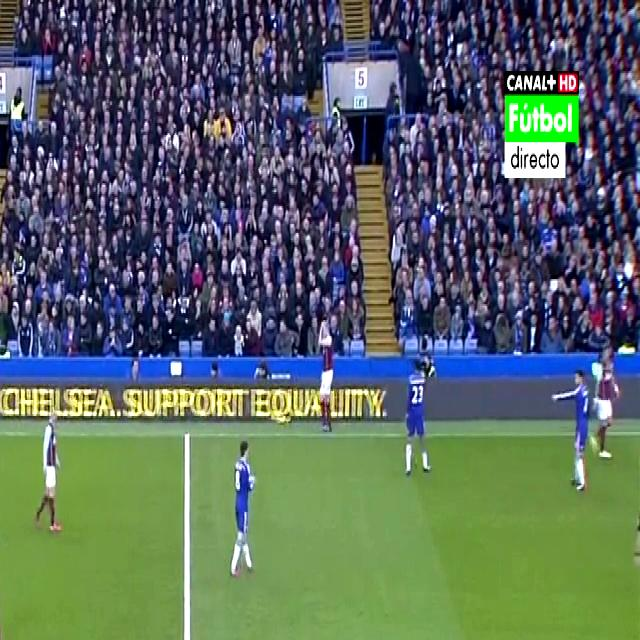soccer-player: (28, 391, 70, 545), (552, 356, 598, 496), (226, 426, 266, 586), (586, 322, 626, 470), (401, 342, 439, 482), (307, 312, 343, 437), (0, 505, 17, 640)
